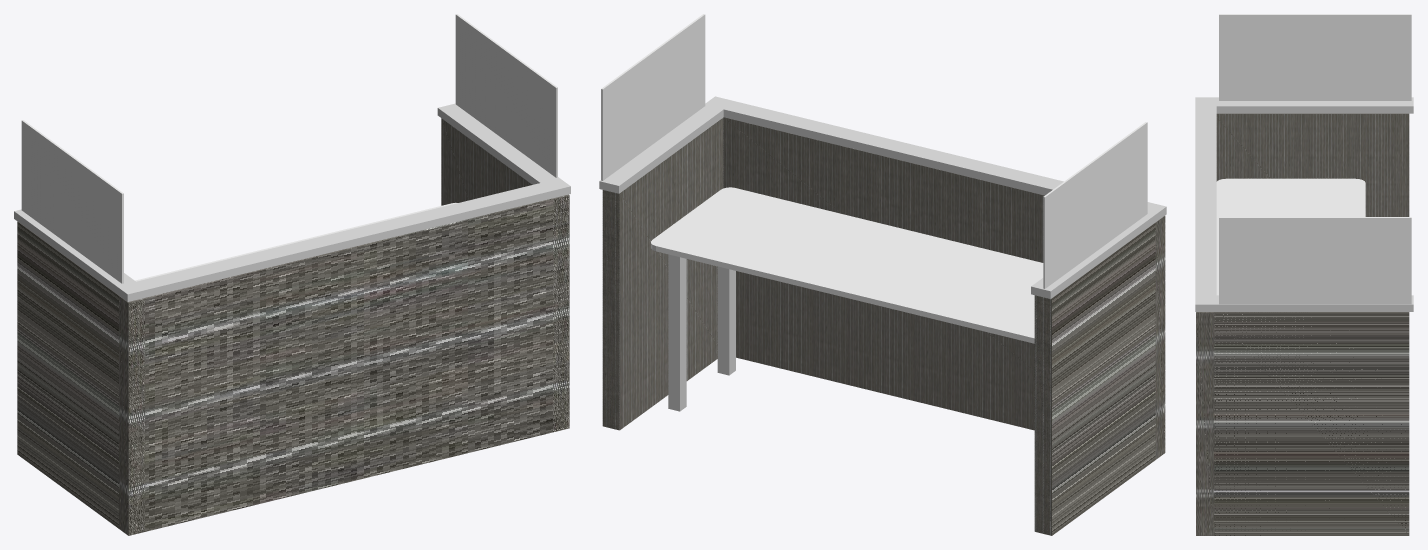
File: desktop.glb
3 renders of one model, left to right at view 1: azimuth 30°, elevation 25°; view 2: azimuth 150°, elevation 25°; view 3: azimuth 270°, elevation 25°, orthographic. The views are drawn at different scales.
Visible parts, largest first — view 1: Cube, Cube.020, Cube.001, Cube.002; view 2: Cube, Cube.002, Cube.020, Cube.001, Cube.036; view 3: Cube, Cube.020, Cube.001, Cube.002.
Boxes of the visible parts, x1,y1,x2,y2 form: Cube: [17, 118, 569, 535]; Cube.020: [21, 14, 557, 283]; Cube.001: [14, 103, 570, 301]; Cube.002: [135, 202, 457, 281]; Cube: [602, 117, 1165, 535]; Cube.002: [651, 187, 1043, 343]; Cube.020: [601, 14, 1147, 288]; Cube.001: [599, 96, 1166, 298]; Cube.036: [668, 254, 735, 411]; Cube: [1196, 113, 1409, 535]; Cube.020: [1219, 14, 1411, 304]; Cube.001: [1195, 97, 1413, 311]; Cube.002: [1216, 178, 1365, 295].
Size of the model in its own units: 6.57 by 4.71 by 2.92.
5 materials, 1 textured.
